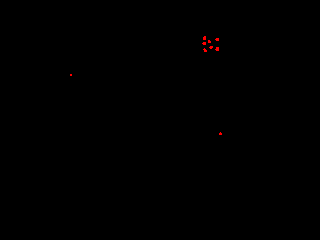Target: (215, 47, 219, 51), (203, 48, 207, 52), (203, 36, 206, 40), (215, 38, 219, 41), (202, 42, 206, 45), (209, 46, 213, 49), (208, 40, 211, 43), (219, 132, 222, 135), (70, 74, 72, 76)
